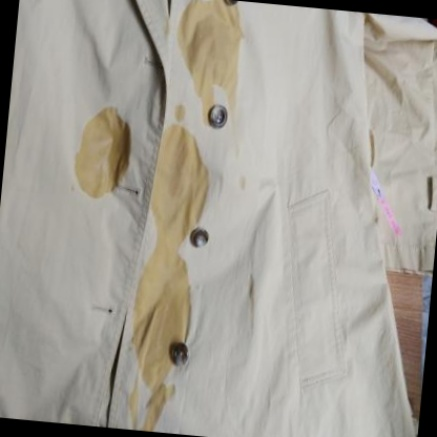coffee: (149, 133, 210, 230), (133, 259, 176, 359), (182, 5, 239, 78), (77, 116, 132, 190)
